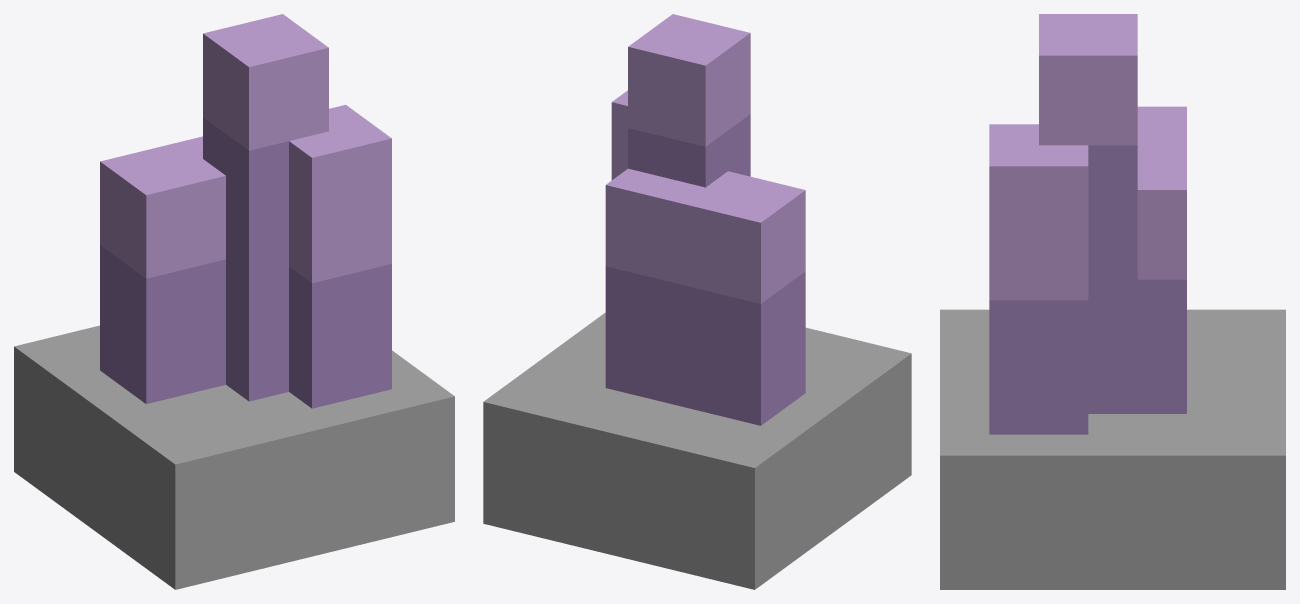
The model's file is geoda_05.glb.
The picture shows the model from 3 angles, left to right: view 1: azimuth 30°, elevation 25°; view 2: azimuth 150°, elevation 25°; view 3: azimuth 270°, elevation 25°; orthographic projection. The views are drawn at different scales.
Parts seen in each view (by area): view 1: geoda_05; view 2: geoda_05; view 3: geoda_05.
Part boxes in pixels (<box>): geoda_05: <box>14,14,454,589</box>; geoda_05: <box>483,14,911,589</box>; geoda_05: <box>940,14,1285,589</box>.
Size of the model in its own units: 0.7 by 1.1 by 0.7.
